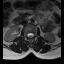CCS_normal: (29, 31, 31, 40)
LFS_normal: (34, 31, 36, 38)
LLS_normal: (31, 31, 34, 38)
RFS_normal: (25, 31, 27, 38)
RLS_normal: (27, 31, 29, 39)
